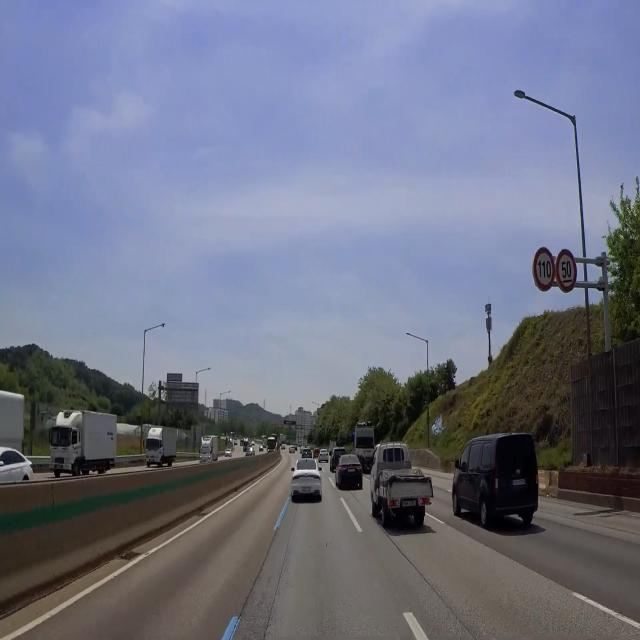car: (510, 475, 529, 489), (400, 499, 419, 510), (345, 466, 358, 477), (300, 485, 313, 495)
